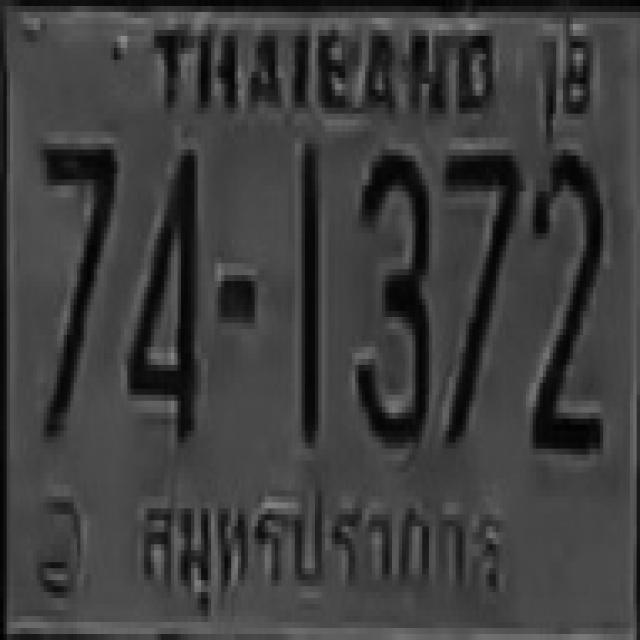1: (290, 129, 322, 465)
2: (526, 132, 620, 477)
3: (344, 134, 438, 456)
4: (131, 110, 219, 458)
7: (21, 116, 122, 449), (445, 132, 524, 472)
SamutPrakan: (121, 474, 520, 620)
